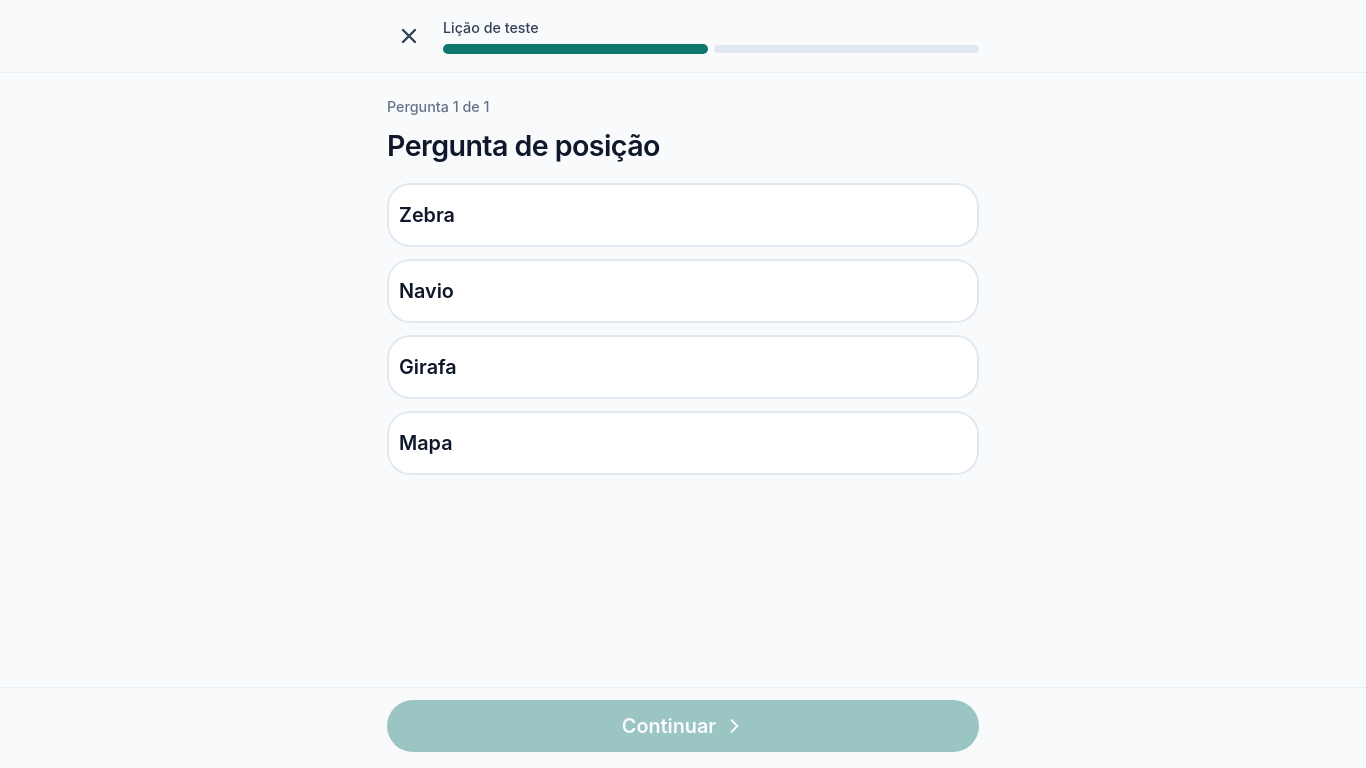
quiz: a correção é pelo ID da alternativa, nunca pela posição › escolher a alternativa errada mostra o feedback dela, não o da correta
Step 1. Click the button "Zebra" → (427, 215), box [387,183,979,247]
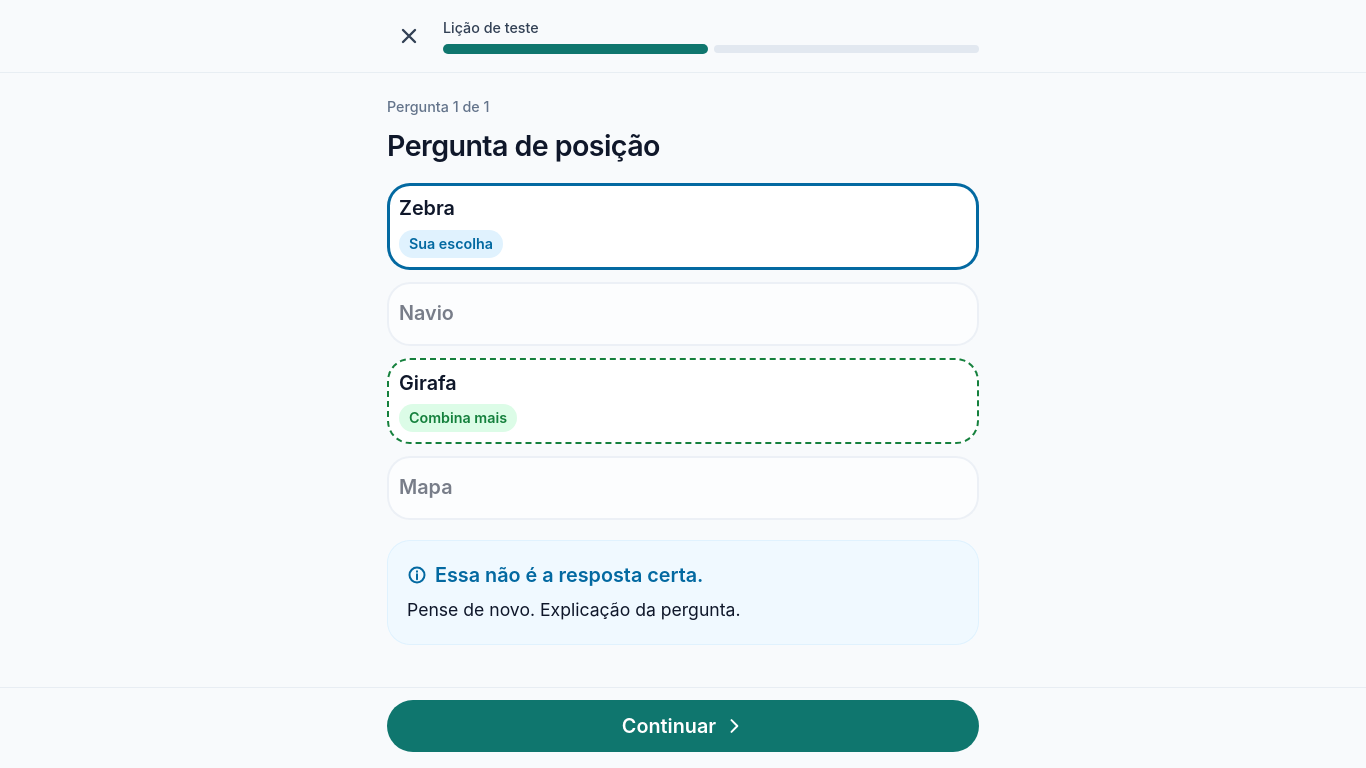
Check: the text "Pense de novo. Explicação da pergunta." is shown, box [407,600,740,620]
